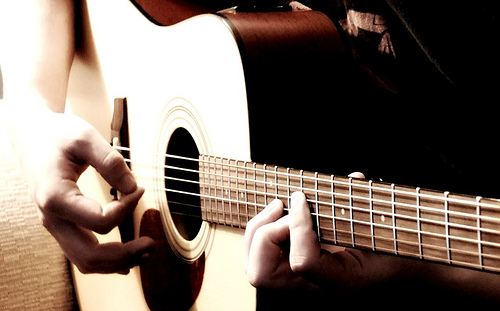guitar: (61, 1, 500, 311)
